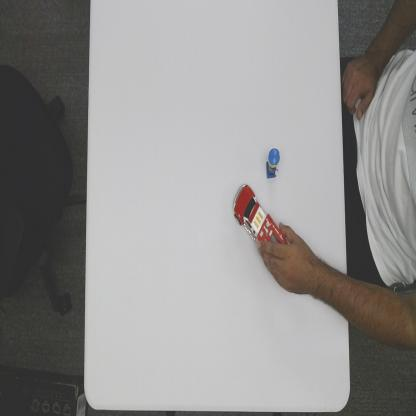Arm: (310, 255, 348, 329)
Firetruck: (232, 180, 288, 254)
Hand: (258, 219, 312, 294)
